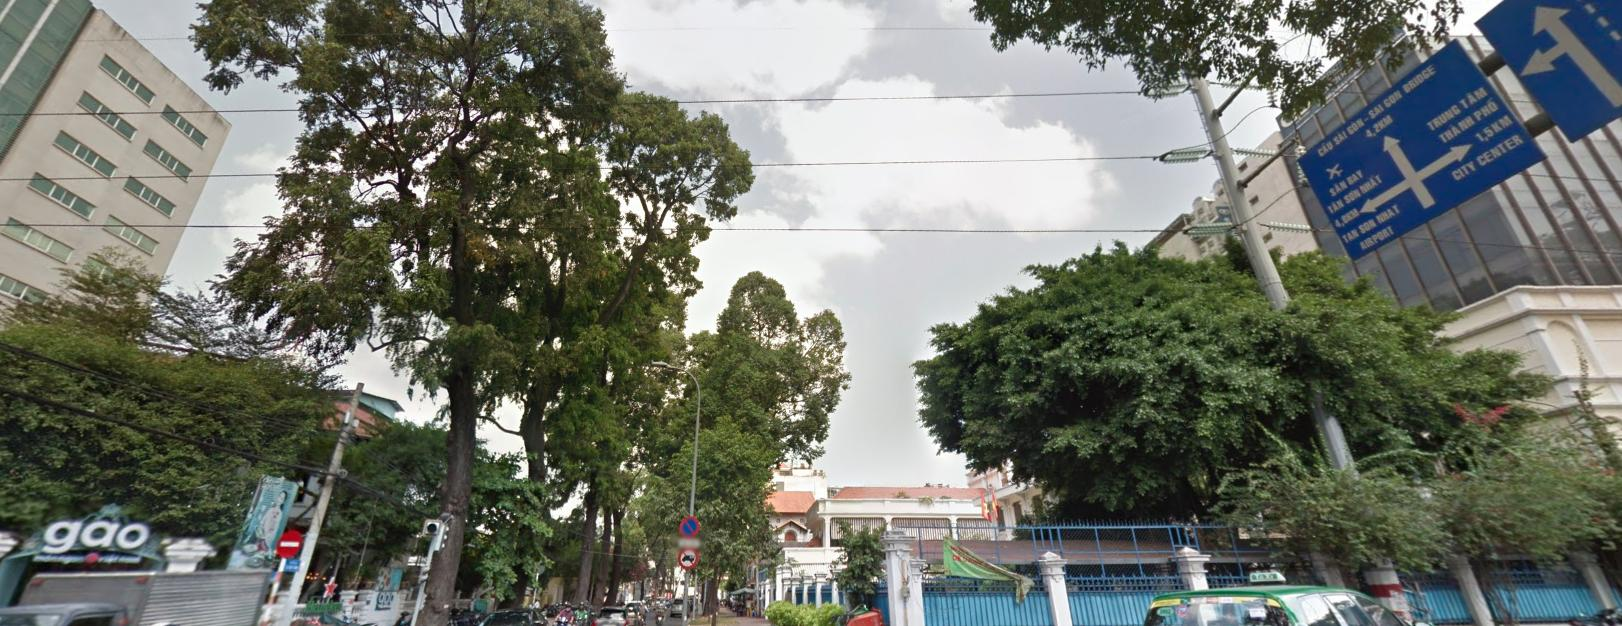Cam con lai: (678, 545, 697, 568)
Cam dung va do: (680, 516, 699, 538)
Cam nguoc chieu: (276, 528, 301, 558)
